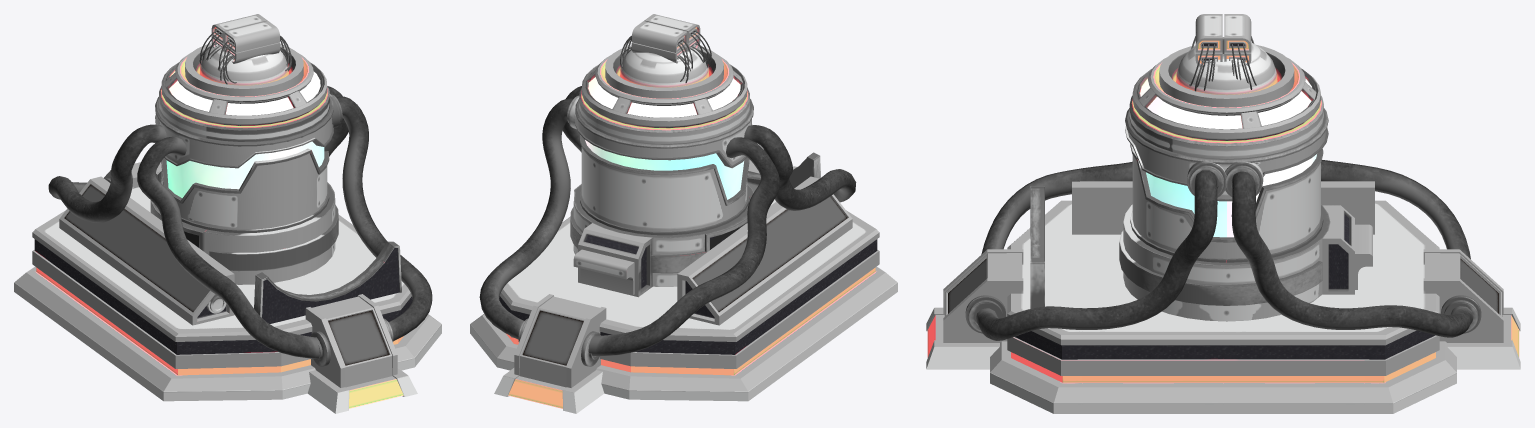
File: SM_Generator2.fbx
The picture shows the model from 3 angles, left to right: view 1: azimuth 30°, elevation 25°; view 2: azimuth 150°, elevation 25°; view 3: azimuth 270°, elevation 25°; orthographic projection. The views are drawn at different scales.
Parts seen in each view (by area): view 1: SM_Generator2_LOD0; view 2: SM_Generator2_LOD0; view 3: SM_Generator2_LOD0.
Boxes of the visible parts, box(x1,y1,x2,y2) form: SM_Generator2_LOD0: box(14, 14, 441, 413); SM_Generator2_LOD0: box(470, 14, 897, 413); SM_Generator2_LOD0: box(926, 14, 1520, 413).
Bounding box in the file's own units: 260 × 423 × 252.
